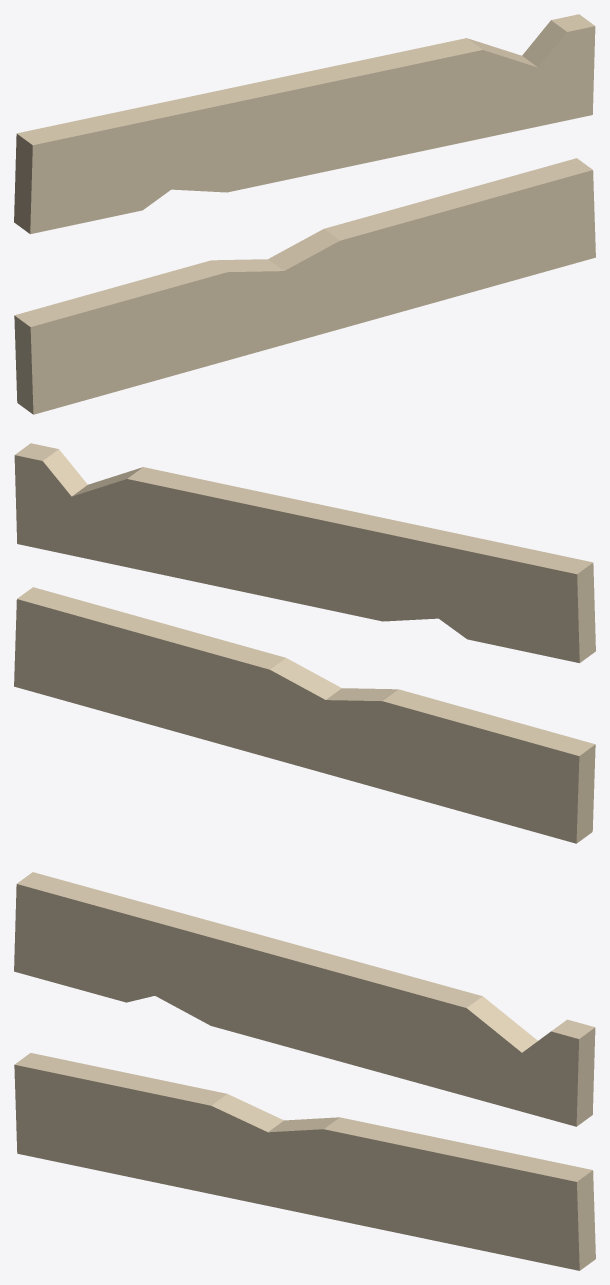
File: Prop_Fence_Boards_3.glb
3 views of the same model, one above another, from view 1: azimuth 30°, elevation 25°; view 2: azimuth 150°, elevation 25°; view 3: azimuth 330°, elevation 25° (orthographic).
Parts seen in each view (by area): view 1: object1, object2; view 2: object1, object2; view 3: object1, object2.
Boxes of the visible parts, left/top/right/bottom form: object1: left=14, top=158, right=595, bottom=414; object2: left=14, top=14, right=595, bottom=234; object1: left=14, top=587, right=595, bottom=843; object2: left=14, top=443, right=595, bottom=663; object1: left=14, top=1053, right=595, bottom=1270; object2: left=14, top=872, right=595, bottom=1126.
Size of the model in its own units: 1.01 by 0.4578 by 0.05.
